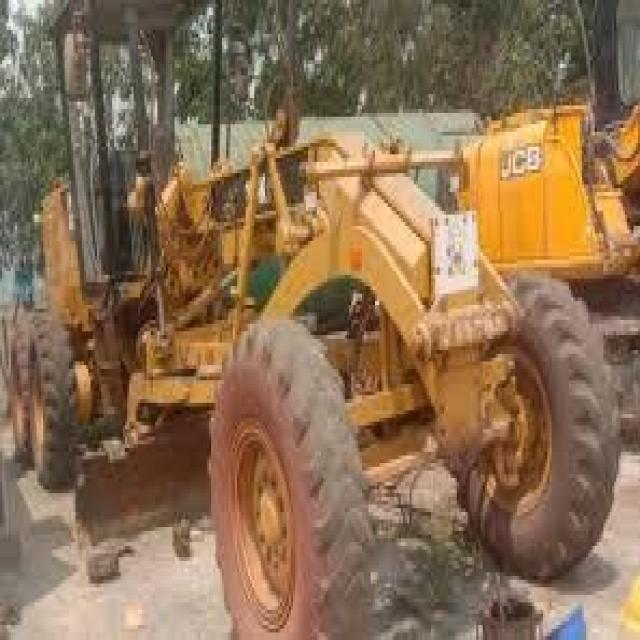Grader: (11, 8, 634, 636)
